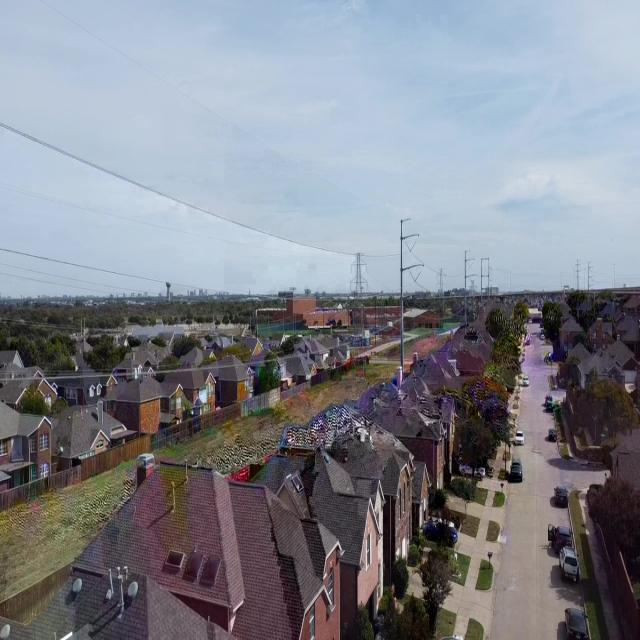杆塔: (341, 242, 372, 338)
